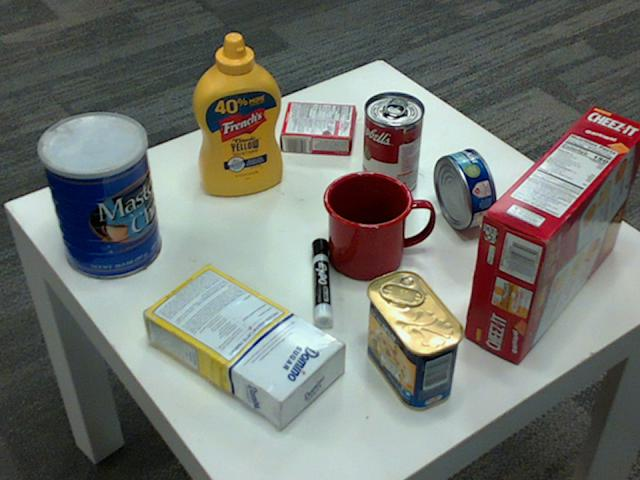cracker_box: (462, 105, 639, 362)
gelatin_box: (282, 101, 357, 152)
large_marker: (311, 239, 331, 333)
master_chef_can: (35, 112, 159, 280)
mug: (322, 168, 431, 277)
mustard_bottle: (192, 33, 282, 195)
potted_meat_can: (363, 270, 465, 409)
sugar_box: (138, 261, 342, 425)
tomato_soup_can: (361, 92, 424, 197)
tuna_fish_can: (433, 148, 494, 228)
